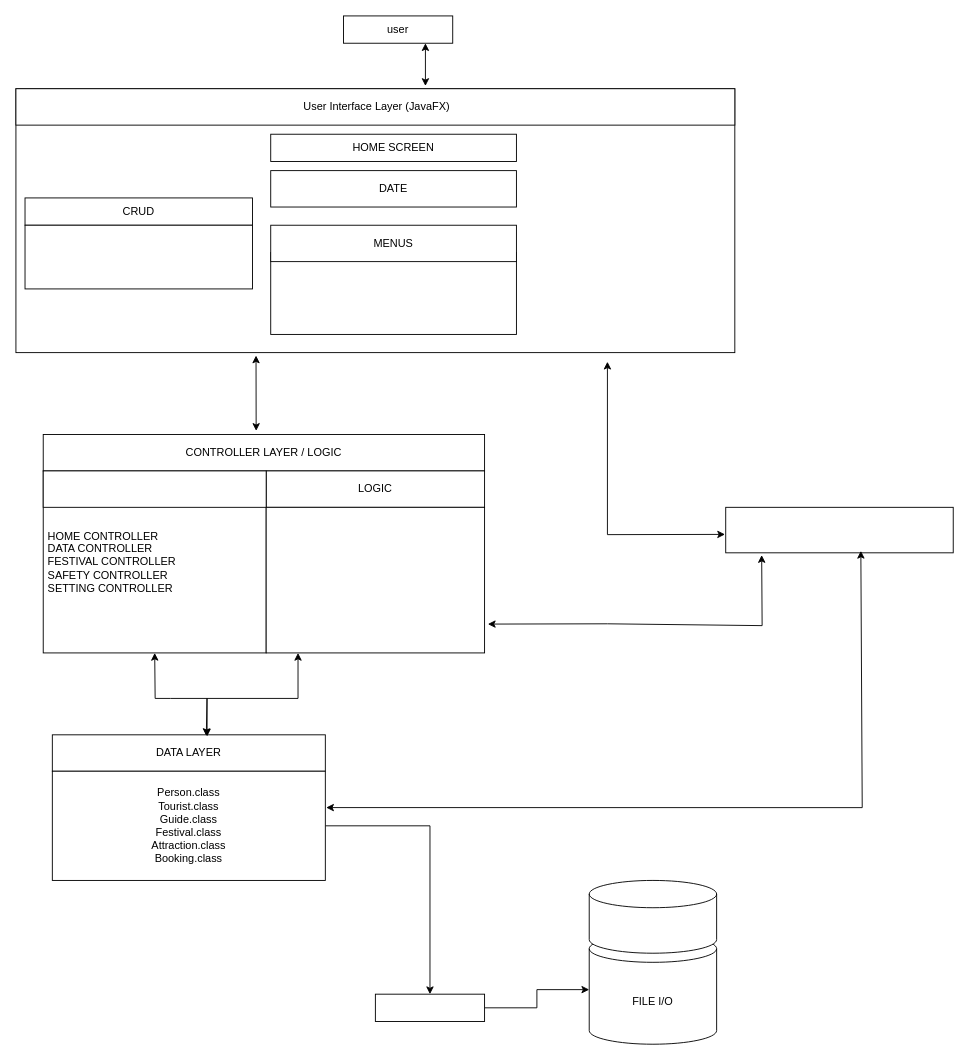
Some shapes in this 969 by 1060 pixel diagram are drawn without their labels. The centre of each missing label's shape, as x and y in pixels:
"CONTROLLER" goes at (x=154, y=488).
"DASHBOARD (ADMIN)" goes at (x=839, y=529).
"FESTIVAL CALENDER SAFETY TIPS REGISTRATION SETTINGS" goes at (x=393, y=293).
"FESTIVAL MANAGER SAFETY ALERT TOURIST SERVICE REPORT SERVICE" goes at (x=375, y=579).
"FILE HANDLER..java" goes at (x=429, y=1007).
"TOURIST GUIDE ATTRACTION BOOKING" goes at (x=138, y=256).
